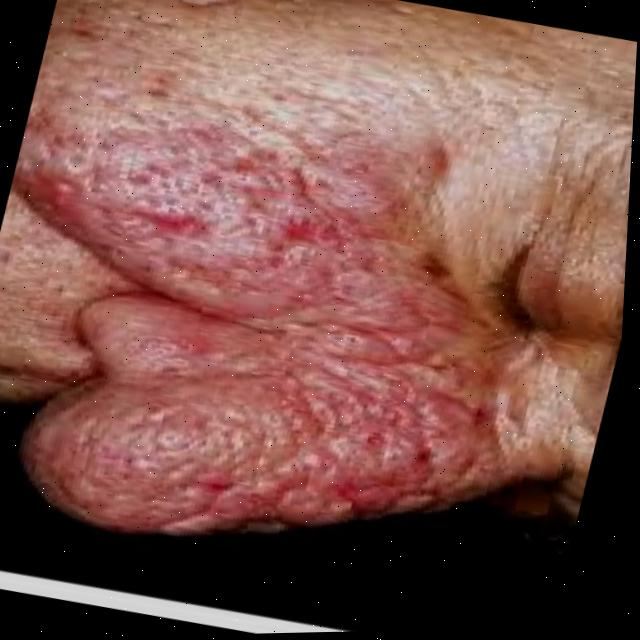Rosacea: (77, 312, 518, 569), (11, 58, 445, 308)
